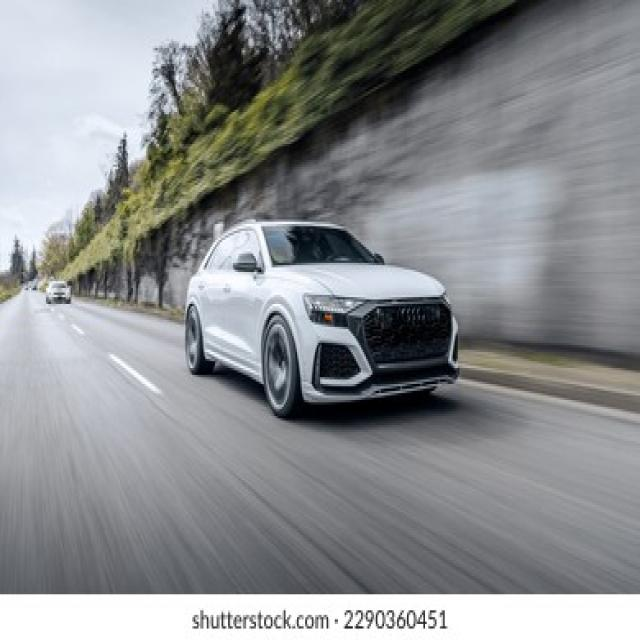audi: (394, 305, 428, 330)
